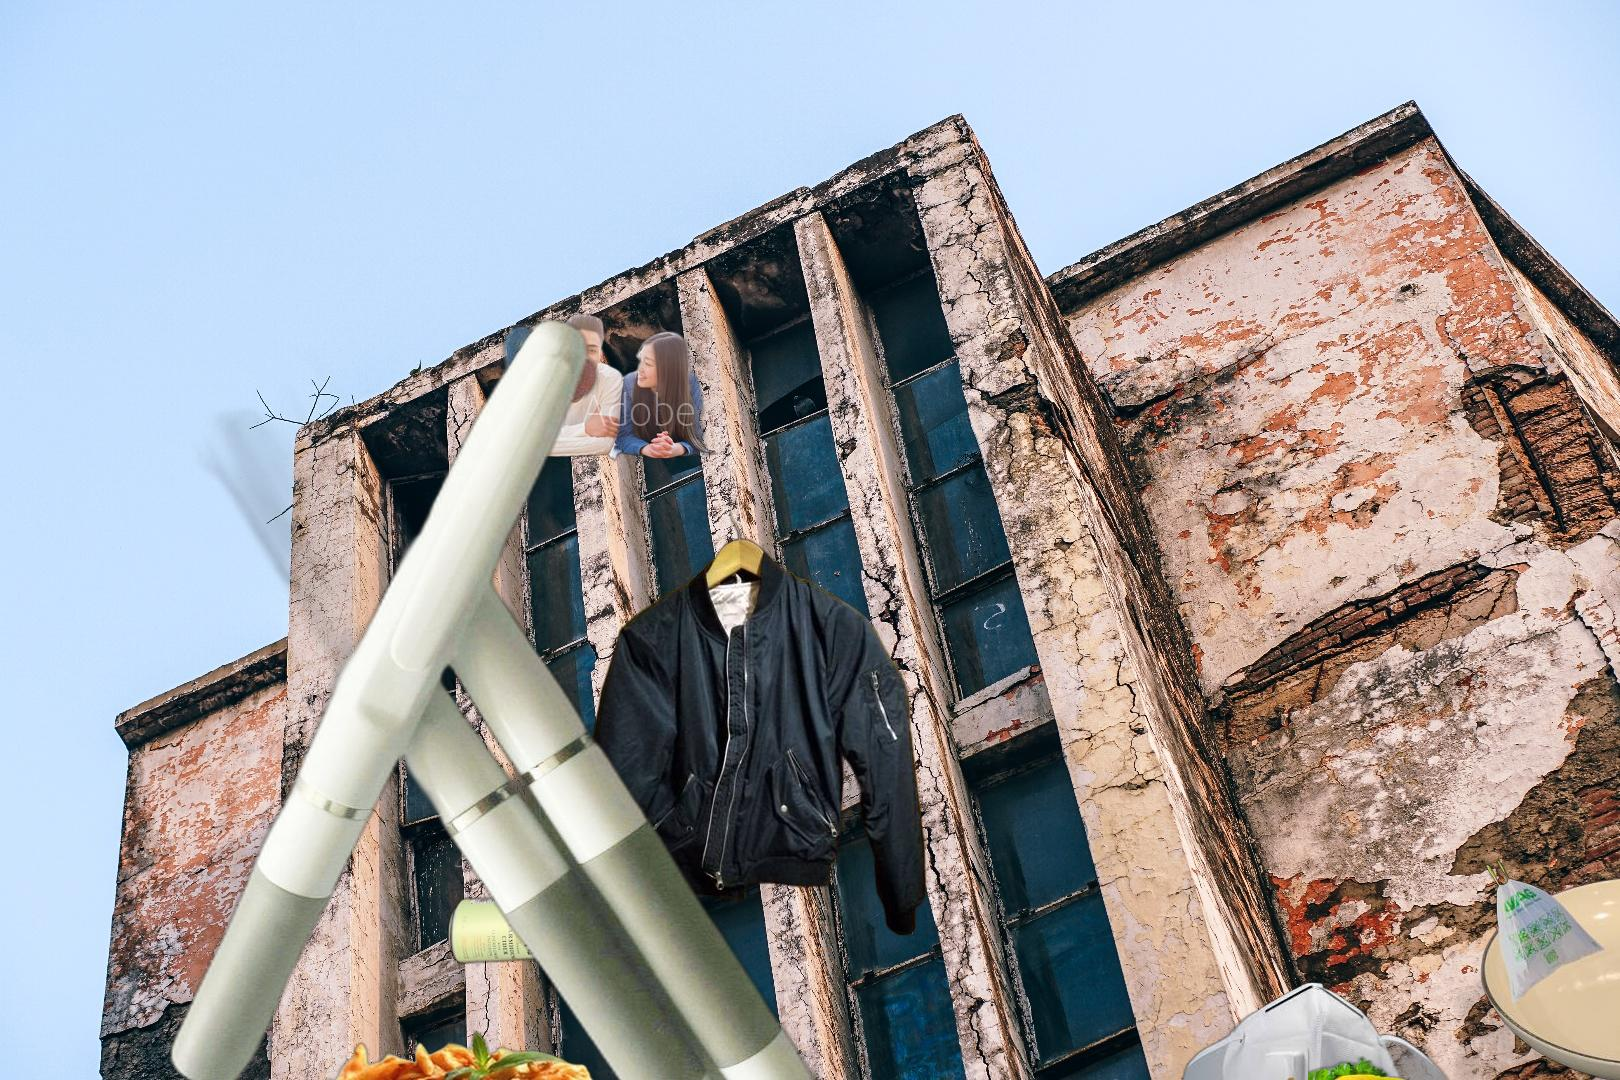biological: (1308, 937, 1620, 1080), (277, 1029, 689, 1080)
clothes: (560, 499, 931, 951)
metal-cans: (444, 888, 564, 970)
penholder: (162, 310, 861, 1080)
plastic-bag: (1478, 858, 1620, 1080)
trash: (1178, 979, 1452, 1080)
trashbox-cardboard: (501, 309, 738, 465)
